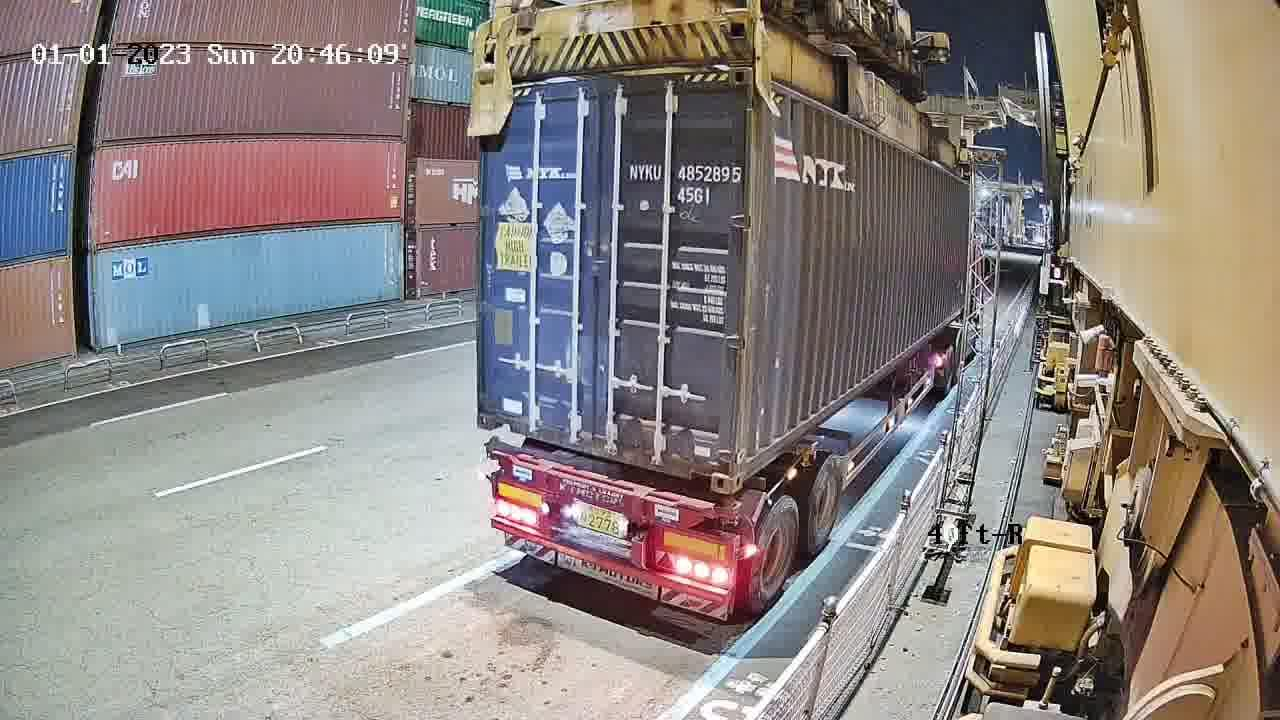Chassis: (491, 446, 721, 531)
Cone: (714, 494, 741, 528)
Hole_L: (477, 379, 522, 434), (732, 418, 763, 492)
Hole_R: (687, 436, 736, 491)
Tire: (752, 501, 800, 609), (810, 471, 844, 552)
